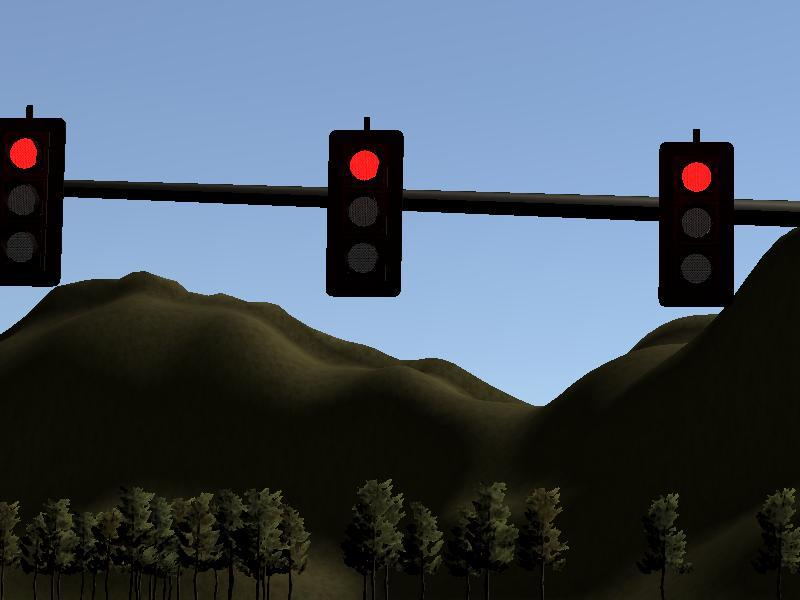Red: (657, 141, 734, 308), (325, 130, 401, 297), (1, 117, 66, 285)
